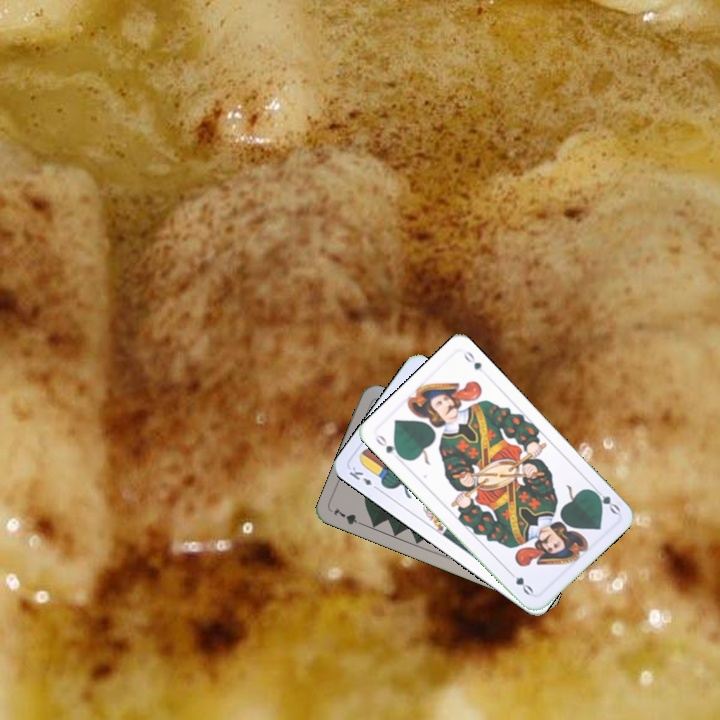EK: (345, 462, 382, 493)
G7: (329, 504, 368, 529)
GO: (587, 483, 623, 517), (371, 431, 405, 461)
